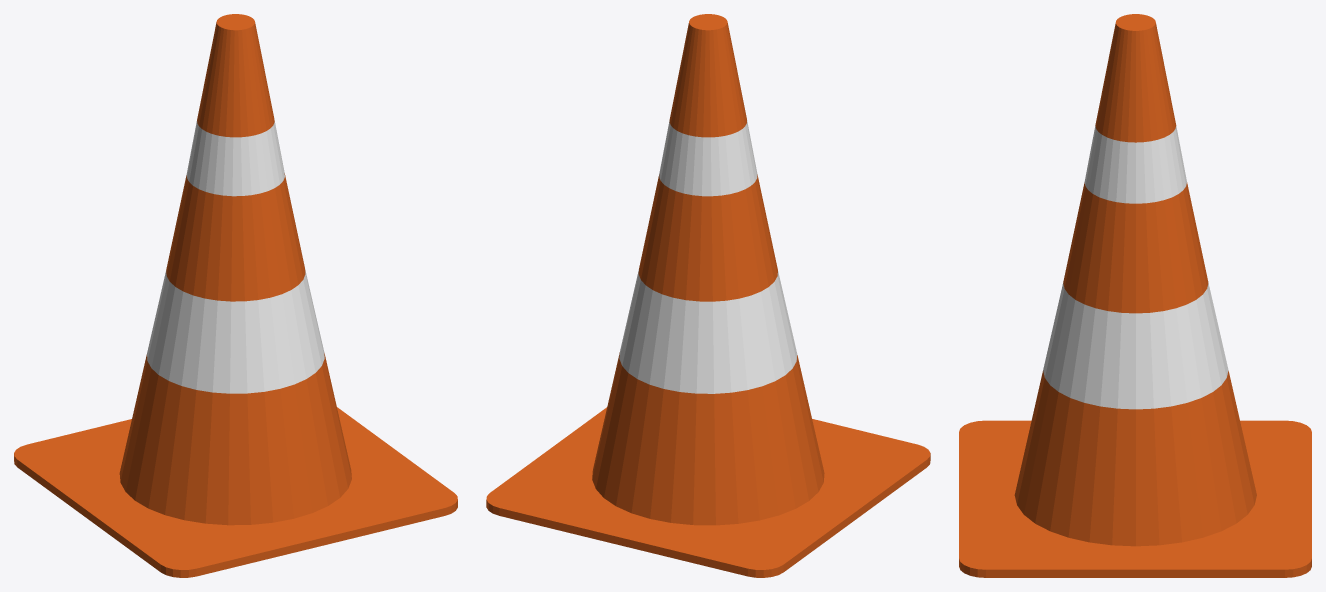
Rendered from Cono.fbx.
The picture shows the model from 3 angles, left to right: view 1: azimuth 30°, elevation 25°; view 2: azimuth 150°, elevation 25°; view 3: azimuth 270°, elevation 25°; orthographic projection. The views are drawn at different scales.
Parts seen in each view (by area): view 1: Cono; view 2: Cono; view 3: Cono.
Part boxes in pixels (bbox=[...]): Cono: bbox=[14, 14, 457, 577]; Cono: bbox=[486, 14, 930, 577]; Cono: bbox=[959, 14, 1311, 577].
Bounding box in the file's own units: 200 × 301 × 200.
